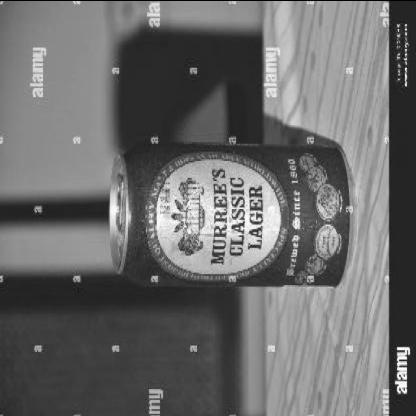alumunium_can: (110, 139, 357, 289)
